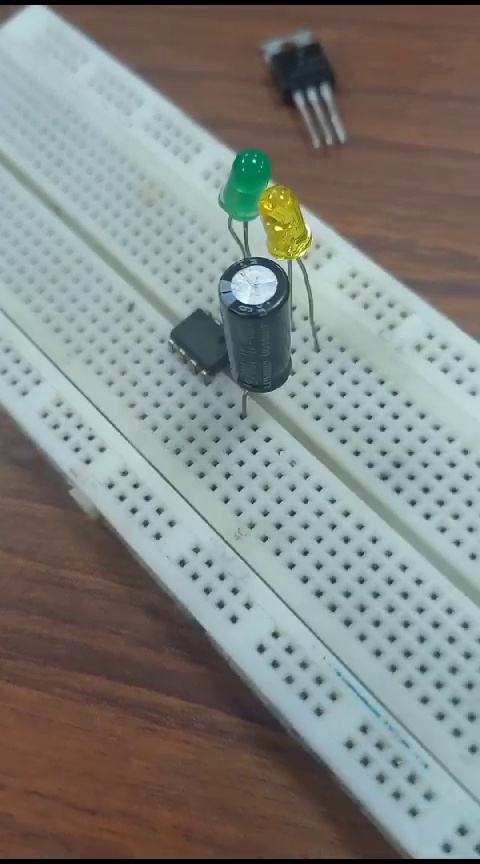IC: (148, 305, 224, 377)
LED: (252, 181, 330, 267), (207, 132, 266, 231)
capacitor: (220, 252, 310, 392)
voltage regulator: (254, 33, 360, 145)
